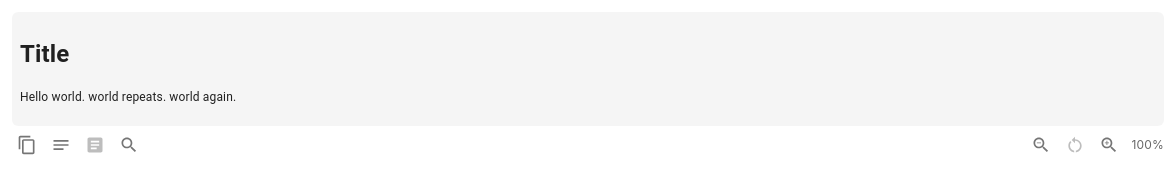
it: TextBody integration › shows a `n / m` counter that reflects the active match
Click the button named "View raw markdown source" at (61, 145), box x1=46 y1=130 x2=76 y2=160
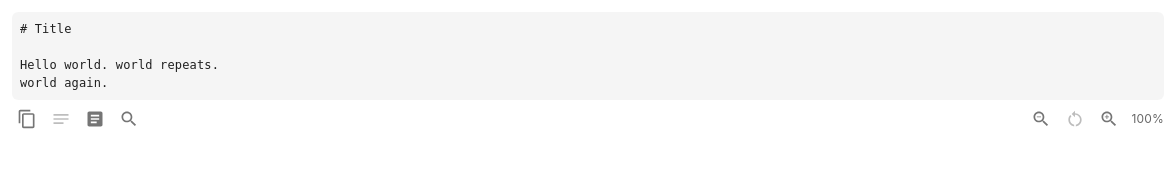
Click the button named "Search in file" at (129, 119), box x1=114 y1=104 x2=144 y2=134
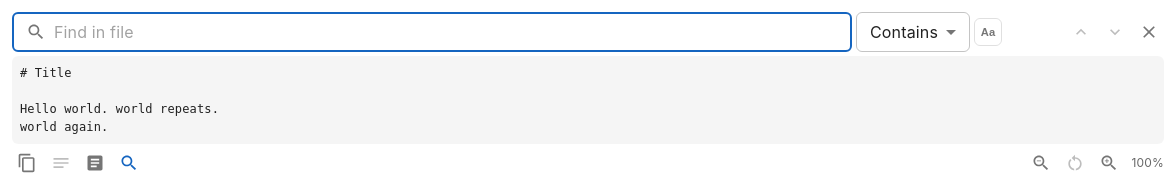
Type "world" into the field named "Search text in preview" at (453, 32), box x1=54 y1=12 x2=852 y2=52
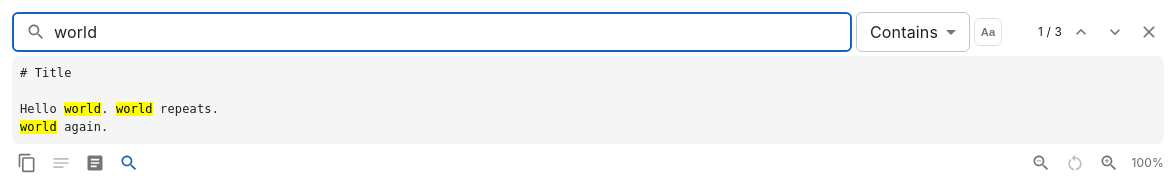
Expected: the text "1 / 3" is shown, x1=1038 y1=24 x2=1062 y2=39
# Next button advances the active hit.
Click the button named "Next match" at (1115, 32), box x1=1100 y1=17 x2=1130 y2=47
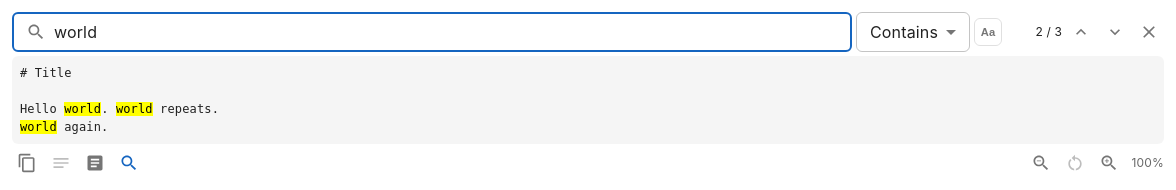
Expected: the text "2 / 3" is shown, x1=1035 y1=24 x2=1062 y2=39
